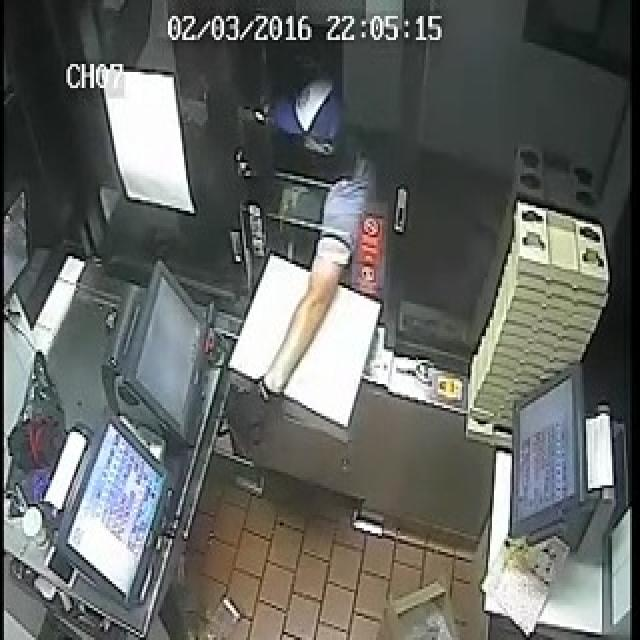thief: (270, 70, 361, 228)
